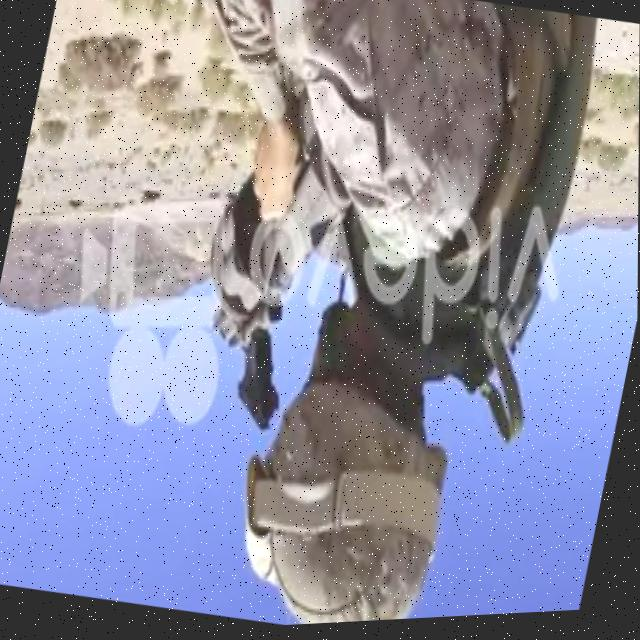rocket: (161, 100, 399, 449)
